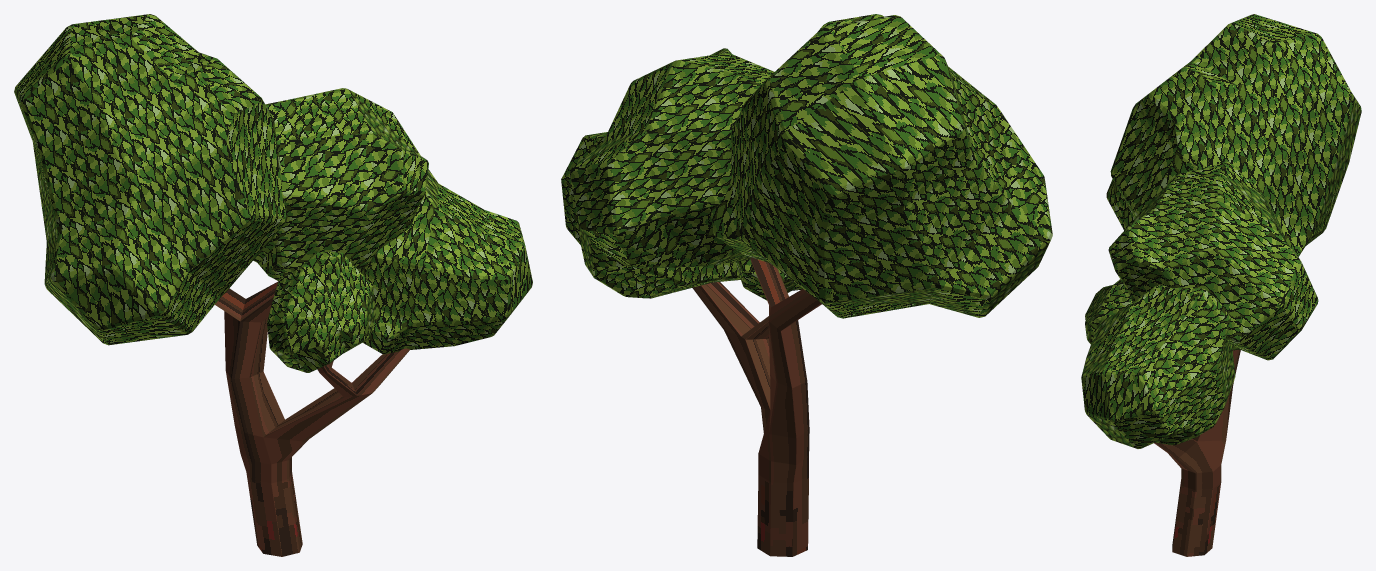
The model's file is TREE1.fbx.
3 views of the same model, side by side, from view 1: azimuth 30°, elevation 25°; view 2: azimuth 150°, elevation 25°; view 3: azimuth 270°, elevation 25° (orthographic). The views are drawn at different scales.
Parts seen in each view (by area): view 1: Cube, Cube.001, Cube.003, Cylinder, Cube.002; view 2: Cube, Cube.001, Cylinder, Cube.003, Cube.002; view 3: Cube, Cube.001, Cube.003, Cylinder, Cube.002.
Boxes of the visible parts, x1,y1,x2,y2 form: Cube: (14,14,287,345); Cube.001: (253,88,428,280); Cube.003: (358,169,532,354); Cylinder: (215,281,409,556); Cube.002: (267,252,375,372); Cube: (711,14,1052,318); Cube.001: (570,48,774,267); Cylinder: (692,257,821,556); Cube.003: (561,132,740,298); Cube.002: (736,259,802,300); Cube: (1106,14,1361,256); Cube.001: (1108,161,1318,360); Cube.003: (1081,284,1235,448); Cylinder: (1154,349,1240,556); Cube.002: (1085,279,1133,344).
Size of the model in its own units: 2233 by 2468 by 1334.
2 materials, 2 textured.
